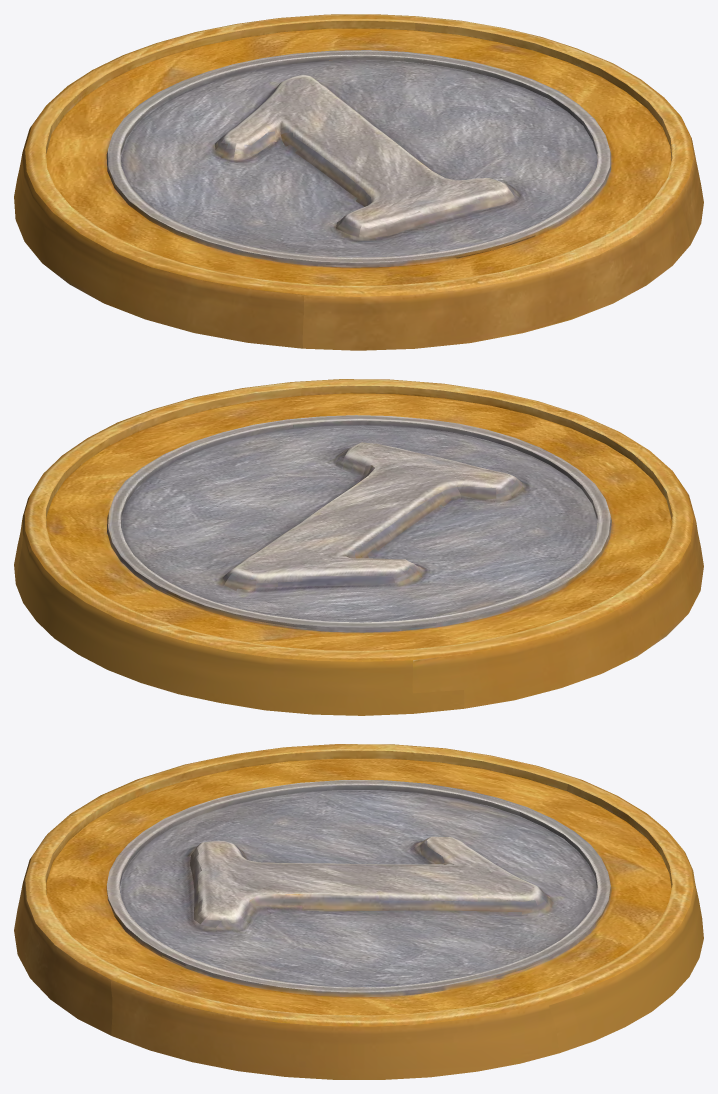
The model's file is bozuk-para.glb.
3 views of the same model, one above another, from view 1: azimuth 30°, elevation 25°; view 2: azimuth 150°, elevation 25°; view 3: azimuth 270°, elevation 25° (orthographic).
Visible parts, largest first — view 1: Mesh0; view 2: Mesh0; view 3: Mesh0.
Boxes of the visible parts, box(x1,y1,x2,y2) form: Mesh0: box(14, 14, 703, 350); Mesh0: box(14, 379, 703, 715); Mesh0: box(14, 744, 703, 1079).
Size of the model in its own units: 1.9 by 0.1742 by 1.9.
Materials: 1 (1 with a texture image).
